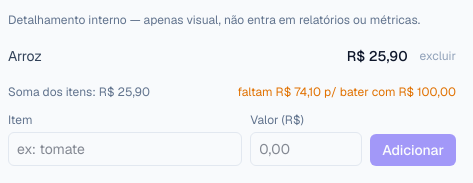
Test: TransactionItemsPanel — excluir item › remove o item e recarrega
Expected: the text "Arroz" is shown, [8,46,42,66]
Click the button "excluir". click: click(438, 56)
box: [420,48,456,64]
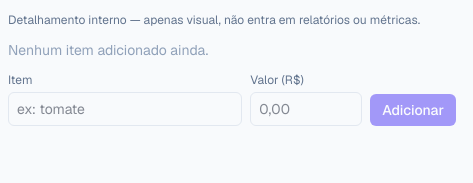
Result: the text "Nenhum item adicionado ainda." is shown at [8,41,208,59]
